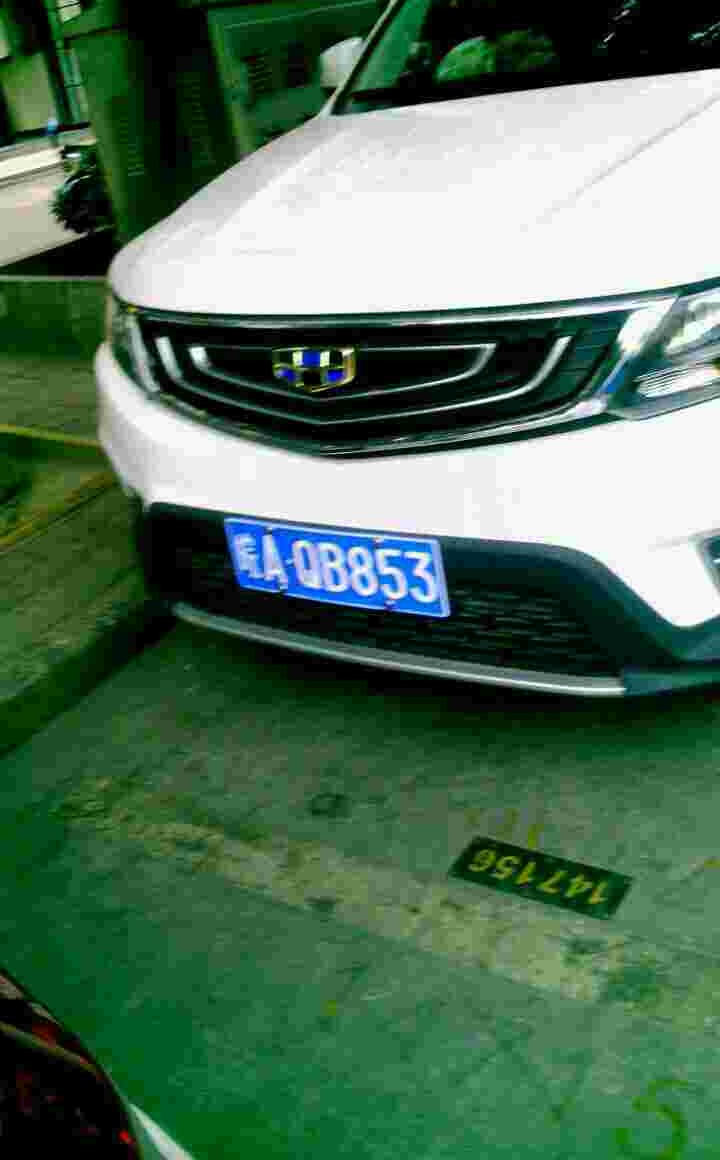license_plate: (233, 506, 444, 624)
